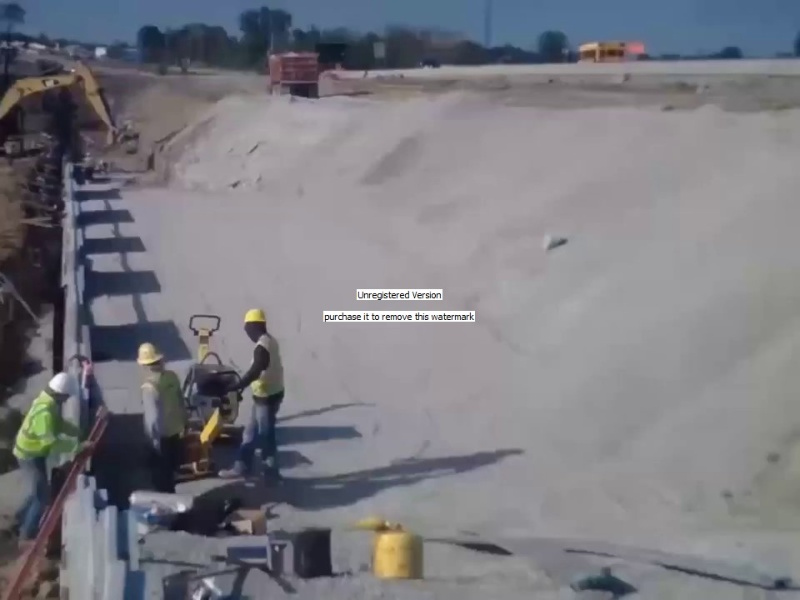dumptruck: (264, 51, 321, 101)
excavator: (1, 60, 126, 161)
hardhat: (46, 372, 80, 397), (135, 343, 165, 368), (243, 308, 268, 324)
person: (216, 307, 299, 486), (9, 372, 75, 558), (135, 341, 189, 495)
wall: (59, 153, 134, 600)
